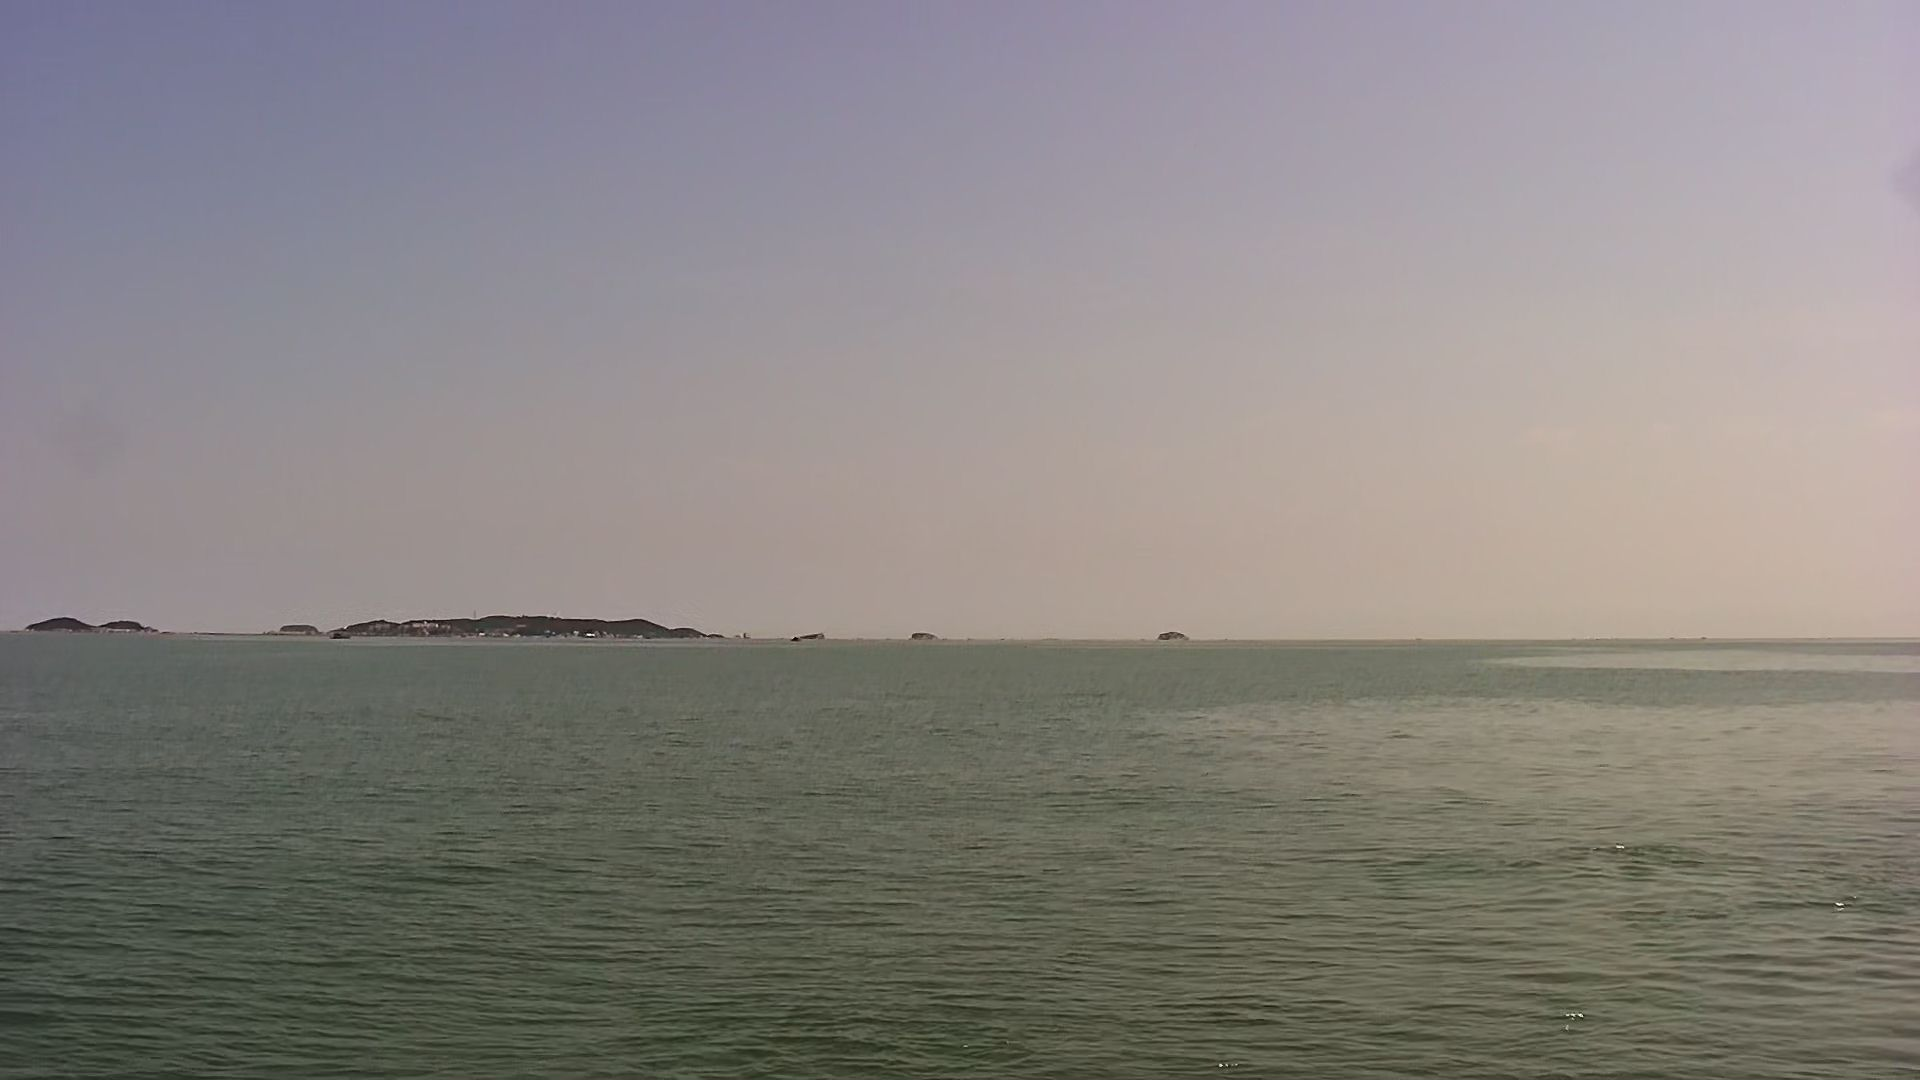rock: (262, 604, 754, 644)
